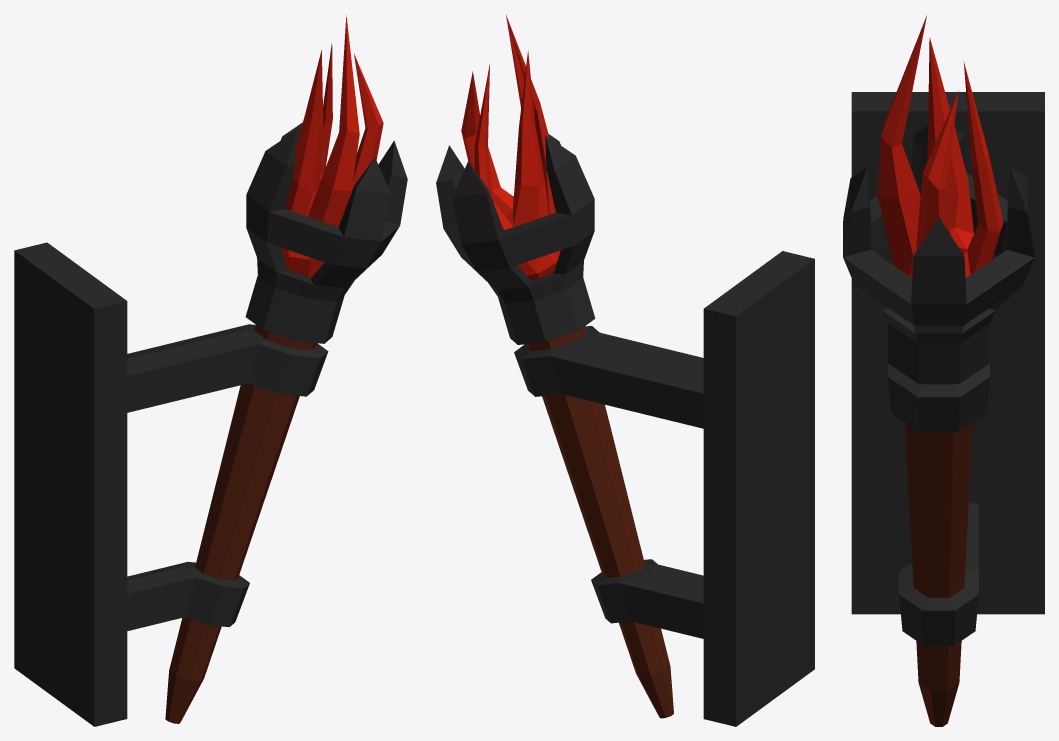
Rendered from Torch.obj.
The picture shows the model from 3 angles, left to right: view 1: azimuth 30°, elevation 25°; view 2: azimuth 150°, elevation 25°; view 3: azimuth 270°, elevation 25°; orthographic projection. The views are drawn at different scales.
Visible parts, largest first — view 1: Torch_Cube.000; view 2: Torch_Cube.000; view 3: Torch_Cube.000.
Part boxes in pixels (x1,y1,x2,y2): Torch_Cube.000: (14, 15, 407, 726); Torch_Cube.000: (436, 15, 814, 726); Torch_Cube.000: (843, 15, 1044, 726).
Size of the model in its own units: 1.1 by 2.08 by 0.4704.
